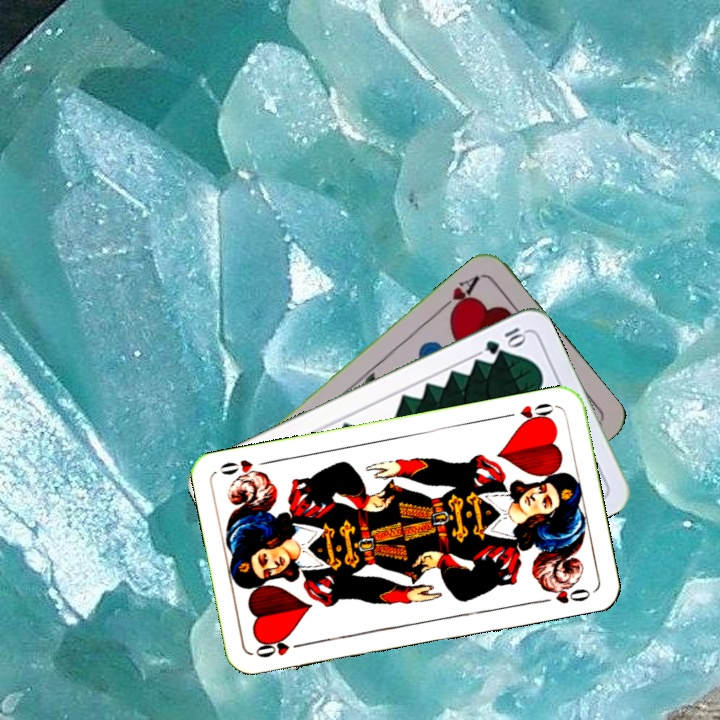G10: (481, 323, 529, 357)
HA: (435, 271, 482, 320)
HO: (500, 398, 559, 428), (251, 634, 309, 661)
